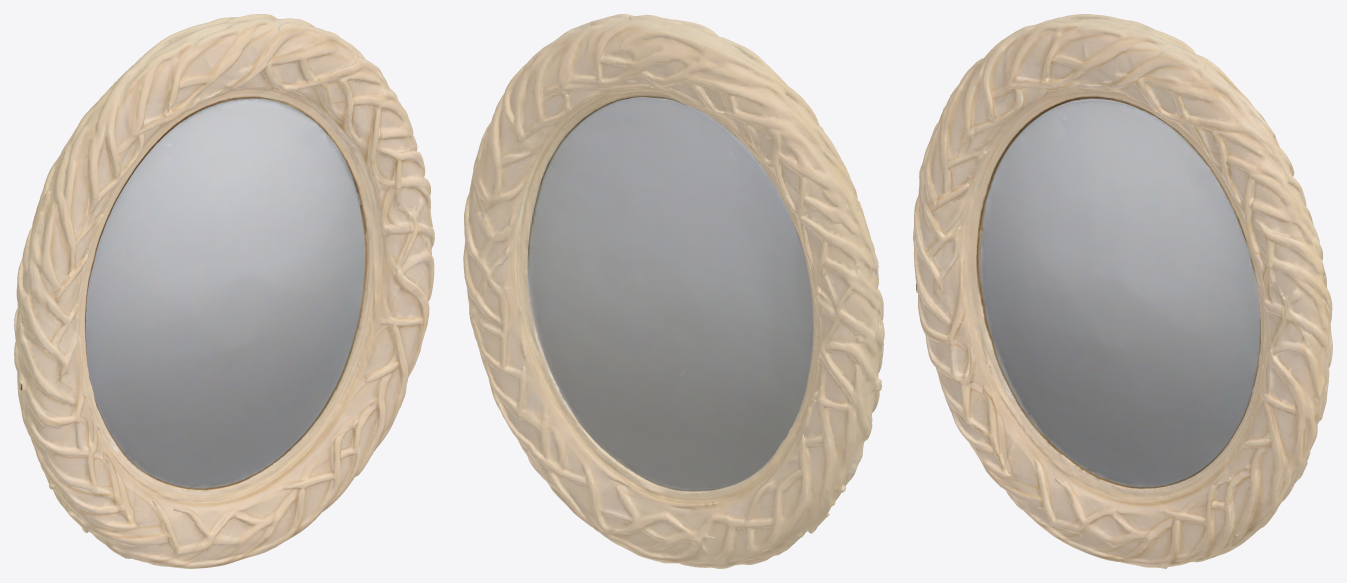
File: Woven Reflections 0609195756 texture.glb
3 views of the same model, side by side, from view 1: azimuth 30°, elevation 25°; view 2: azimuth 150°, elevation 25°; view 3: azimuth 330°, elevation 25° (orthographic).
Size of the model in its own units: 1.62 by 2 by 0.1991.
1 material, 1 textured.
